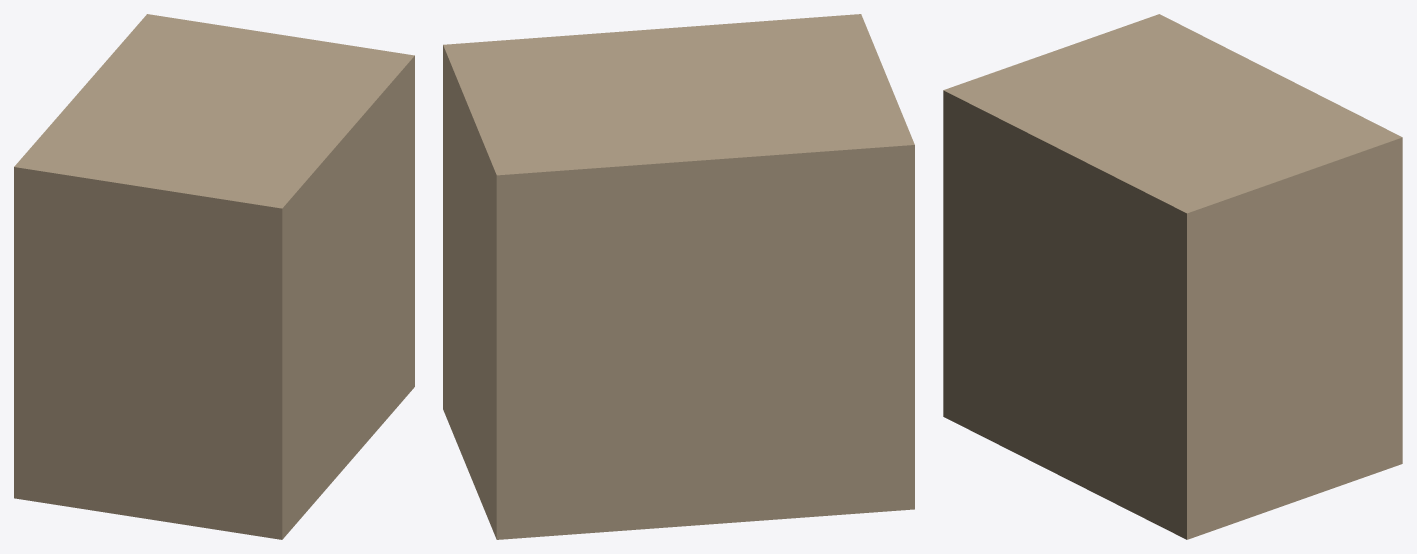
File: bld_106339120.dae
3 renders of one model, left to right at view 1: azimuth 30°, elevation 25°; view 2: azimuth 150°, elevation 25°; view 3: azimuth 270°, elevation 25°, orthographic. The views are drawn at different scales.
Parts seen in each view (by area): view 1: bld_106339120; view 2: bld_106339120; view 3: bld_106339120.
Part boxes in pixels (box(x1,y1,x2,y2)): bld_106339120: box(14, 14, 414, 539); bld_106339120: box(443, 14, 914, 539); bld_106339120: box(943, 14, 1402, 539).
Size of the model in its own units: 10.48 by 10.2 by 8.
